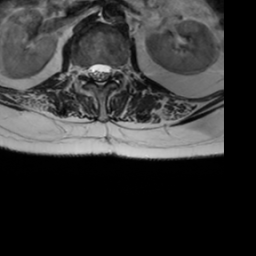CCS_normal: (96, 54, 103, 94)
LFS_normal: (111, 56, 119, 86)
LLS_normal: (103, 56, 112, 86)
RFS_normal: (79, 54, 87, 84)
RLS_normal: (87, 55, 96, 86)
